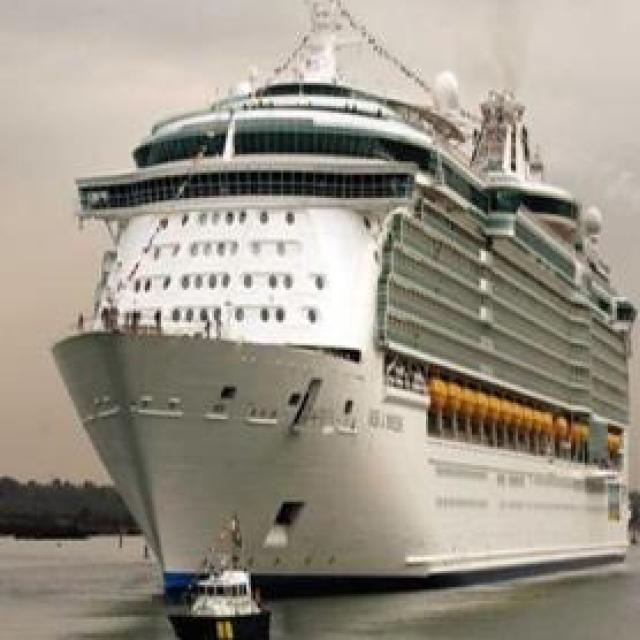houseboat: (166, 515, 291, 640)
passenger ship: (53, 2, 640, 592)
